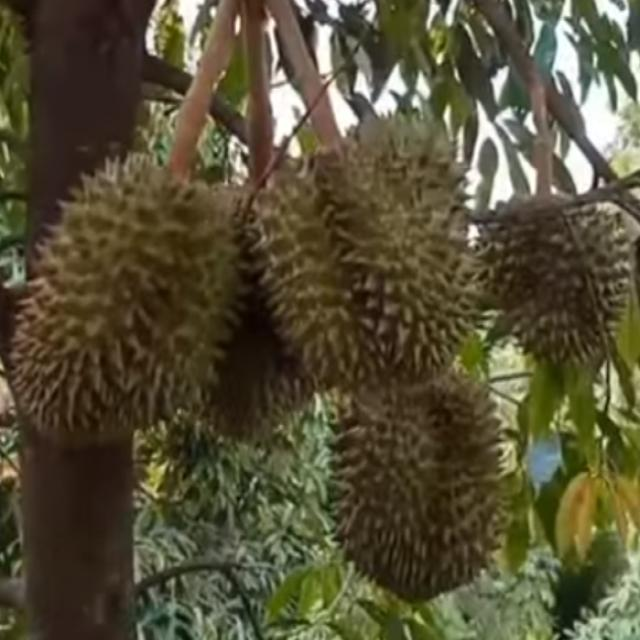mature: (12, 150, 251, 448), (249, 109, 483, 388), (319, 364, 506, 598), (482, 178, 631, 369)
